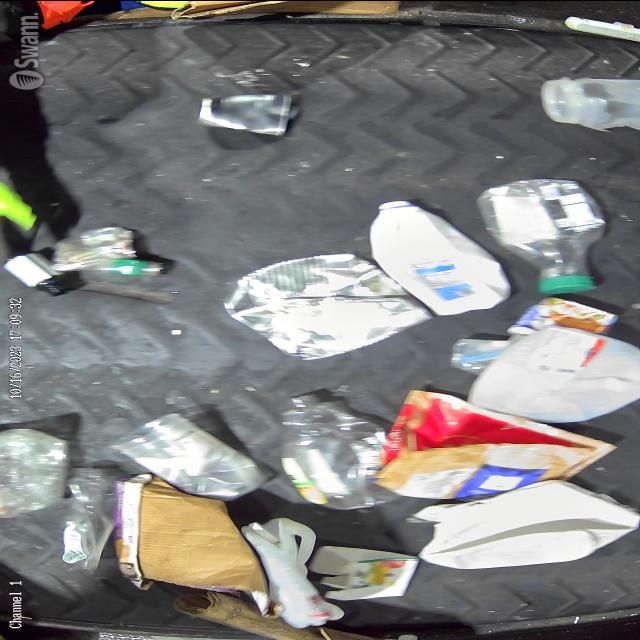can: (189, 94, 291, 134)
milk_jug: (366, 199, 502, 315), (467, 334, 636, 422)
plastic_bottle: (484, 180, 594, 292), (282, 393, 376, 507)
